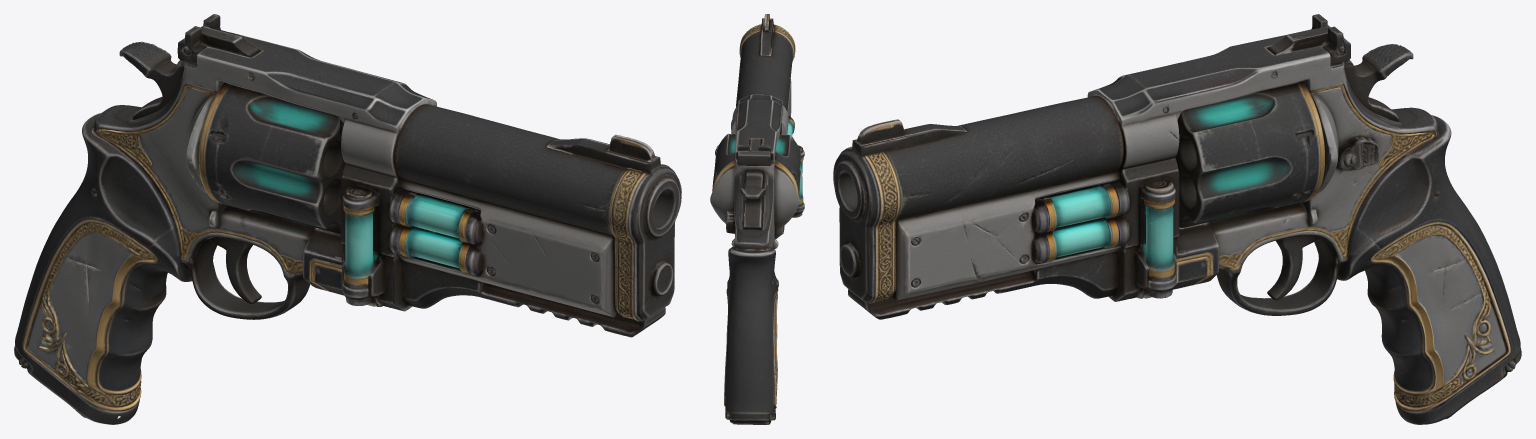
File: hand_cannon.glb
3 renders of one model, left to right at view 1: azimuth 30°, elevation 25°; view 2: azimuth 150°, elevation 25°; view 3: azimuth 270°, elevation 25°, orthographic. The views are drawn at different scales.
Parts seen in each view (by area): view 1: tripo_node_ac396630-5d43-4af5-9193-d4628ec2351b; view 2: tripo_node_ac396630-5d43-4af5-9193-d4628ec2351b; view 3: tripo_node_ac396630-5d43-4af5-9193-d4628ec2351b.
Boxes of the visible parts, <box> form: tripo_node_ac396630-5d43-4af5-9193-d4628ec2351b: <box>14,14,681,424</box>; tripo_node_ac396630-5d43-4af5-9193-d4628ec2351b: <box>710,14,804,424</box>; tripo_node_ac396630-5d43-4af5-9193-d4628ec2351b: <box>833,14,1521,424</box>.
Bounding box in the file's own units: 0.5302 × 0.5918 × 0.8933.
Materials: 1 (1 with a texture image).
